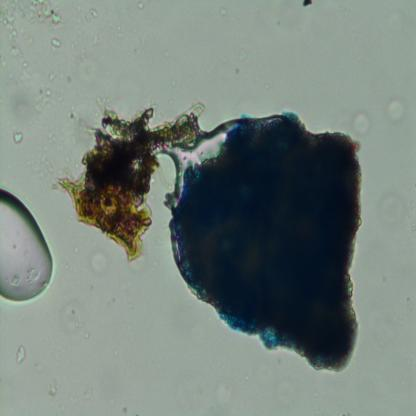Air bubble: (0, 188, 54, 300)
Background material: (63, 92, 180, 266), (27, 130, 57, 184), (2, 2, 23, 61), (20, 0, 62, 27), (60, 299, 86, 341), (32, 68, 59, 108), (381, 196, 406, 228), (88, 245, 110, 277), (352, 107, 372, 138), (72, 55, 94, 83), (384, 96, 404, 124), (22, 96, 37, 126), (18, 57, 31, 84), (407, 192, 416, 231), (48, 34, 63, 55), (10, 130, 26, 148), (47, 381, 63, 399), (15, 342, 26, 366), (82, 8, 100, 21), (236, 47, 247, 66), (216, 6, 229, 18), (302, 1, 314, 10), (135, 1, 146, 9)
Fragment: (171, 108, 364, 373)
